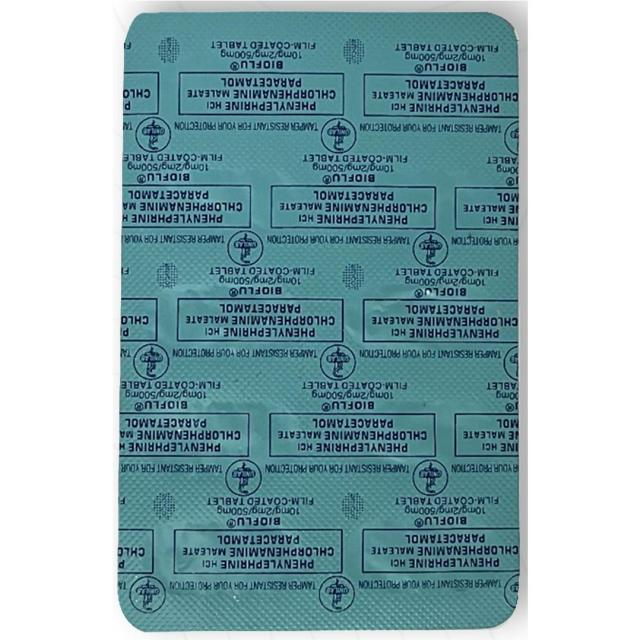blister: (117, 8, 524, 629)
